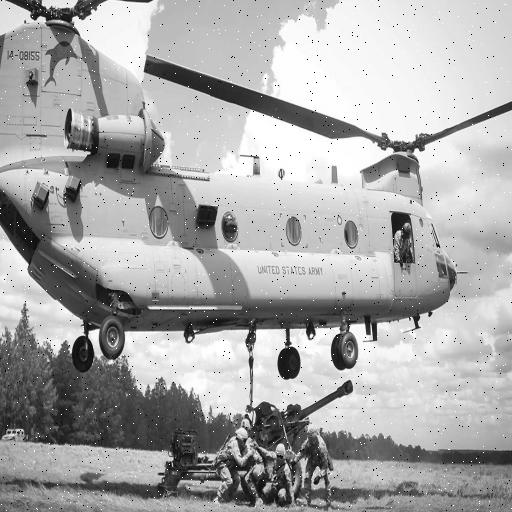helicopter: (1, 1, 505, 387)
